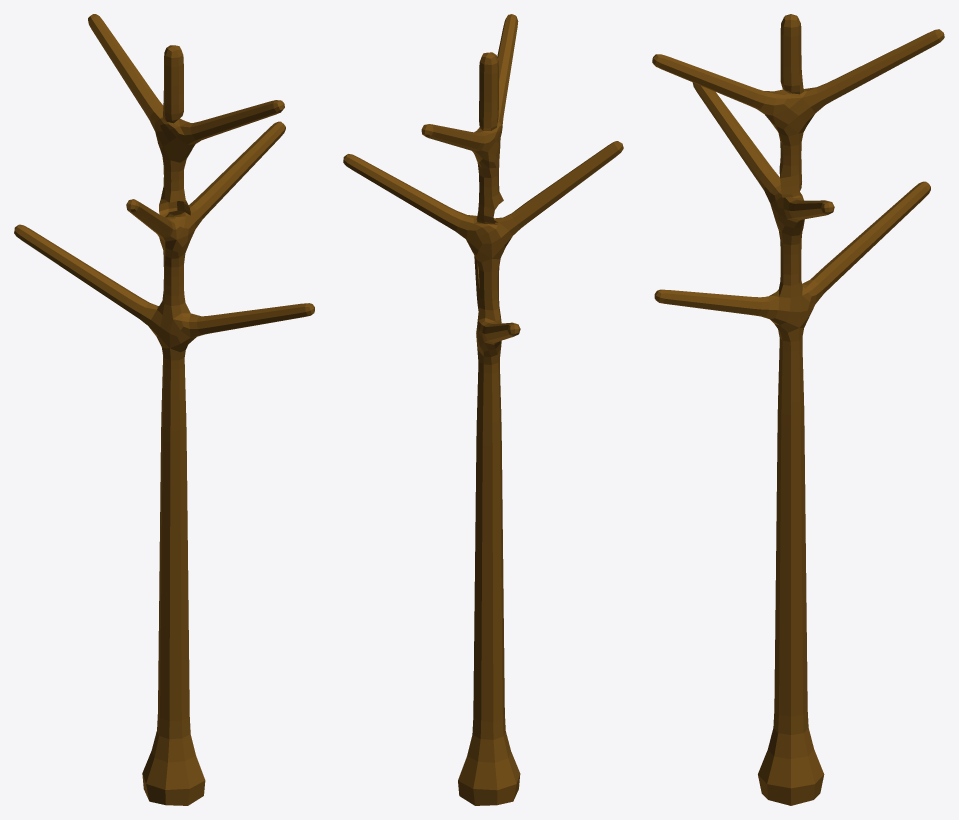
File: kapstok.fbx
3 renders of one model, left to right at view 1: azimuth 30°, elevation 25°; view 2: azimuth 150°, elevation 25°; view 3: azimuth 270°, elevation 25°, orthographic. The views are drawn at different scales.
Parts seen in each view (by area): view 1: kapstok; view 2: kapstok; view 3: kapstok.
Part boxes in pixels (left/top/right/bottom): kapstok: left=14, top=14, right=314, bottom=805; kapstok: left=343, top=14, right=623, bottom=805; kapstok: left=652, top=14, right=944, bottom=805.
Bounding box in the file's own units: 209 × 676 × 228.
